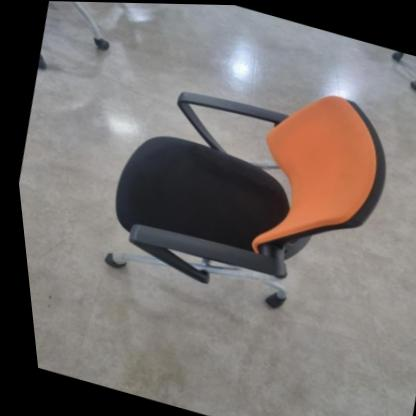Chair: (36, 13, 416, 356)
